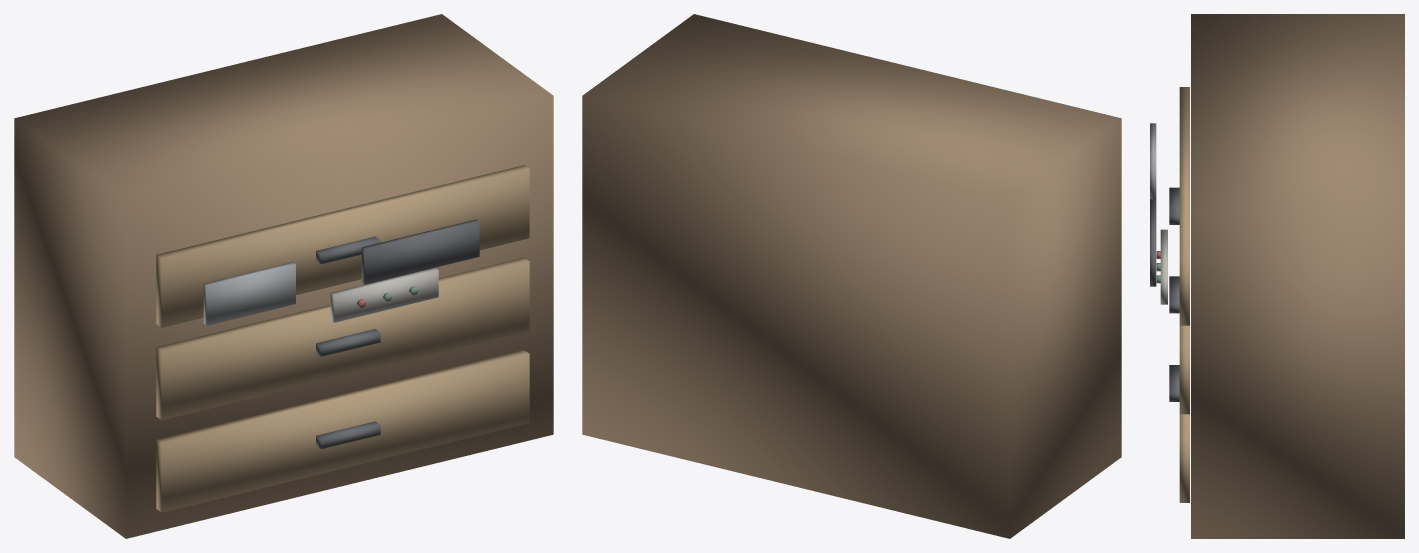
File: residential_dresser__weathered.glb
3 views of the same model, side by side, from view 1: azimuth 30°, elevation 25°; view 2: azimuth 150°, elevation 25°; view 3: azimuth 270°, elevation 25° (orthographic). The views are drawn at different scales.
Visible parts, largest first — view 1: world; view 2: world; view 3: world.
Boxes of the visible parts, <box> form: world: <box>14,14,553,538</box>; world: <box>582,14,1121,538</box>; world: <box>1150,14,1404,538</box>.
Size of the model in its own units: 1.15 by 0.8712 by 0.6195.
